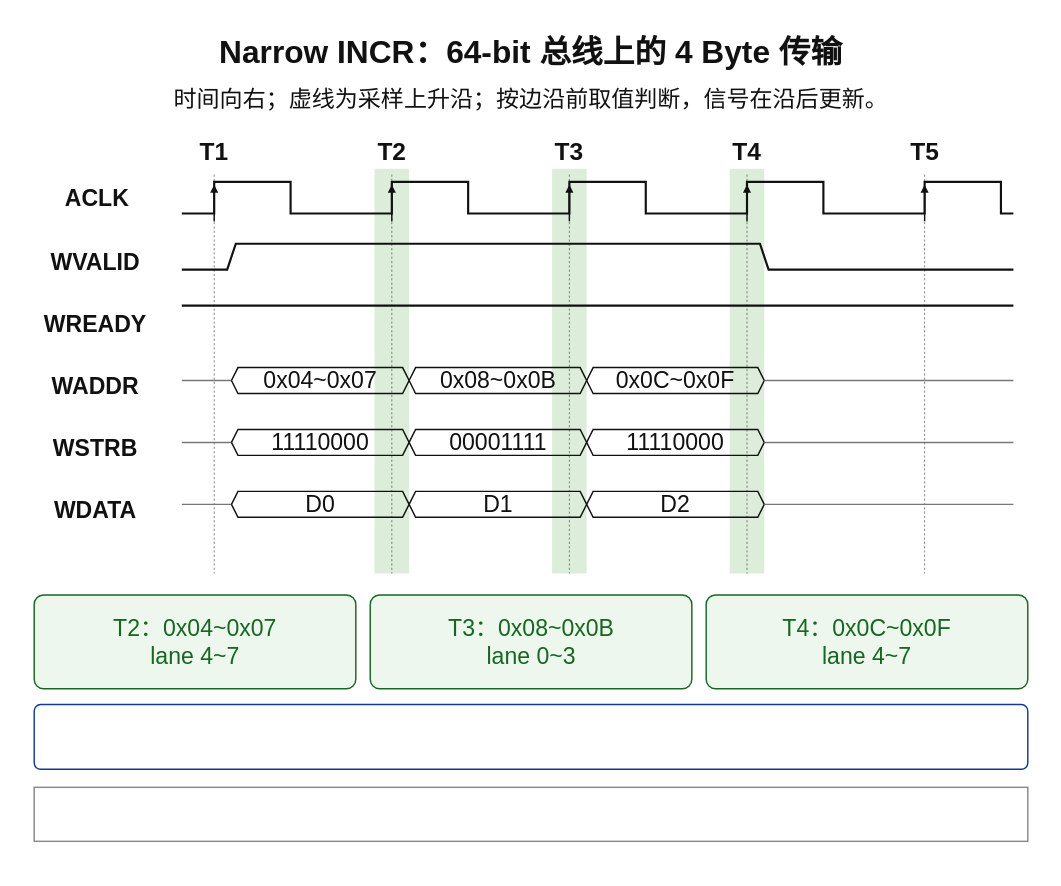
This 1061x886 diagram has some shape labels left out. Each missing label, with the centre of its shape:
64-bit 总线有 8 个 lane；每拍 4 Byte，只占连续 4 个 lane，地址跨 8 Byte 总线字时重新编号。: the point at 530,736
64-bit 总线；AxSIZE=2；AxLEN=2（3 拍）；INCR；WSTRB 按 [7:0] 书写。: the point at 530,814
